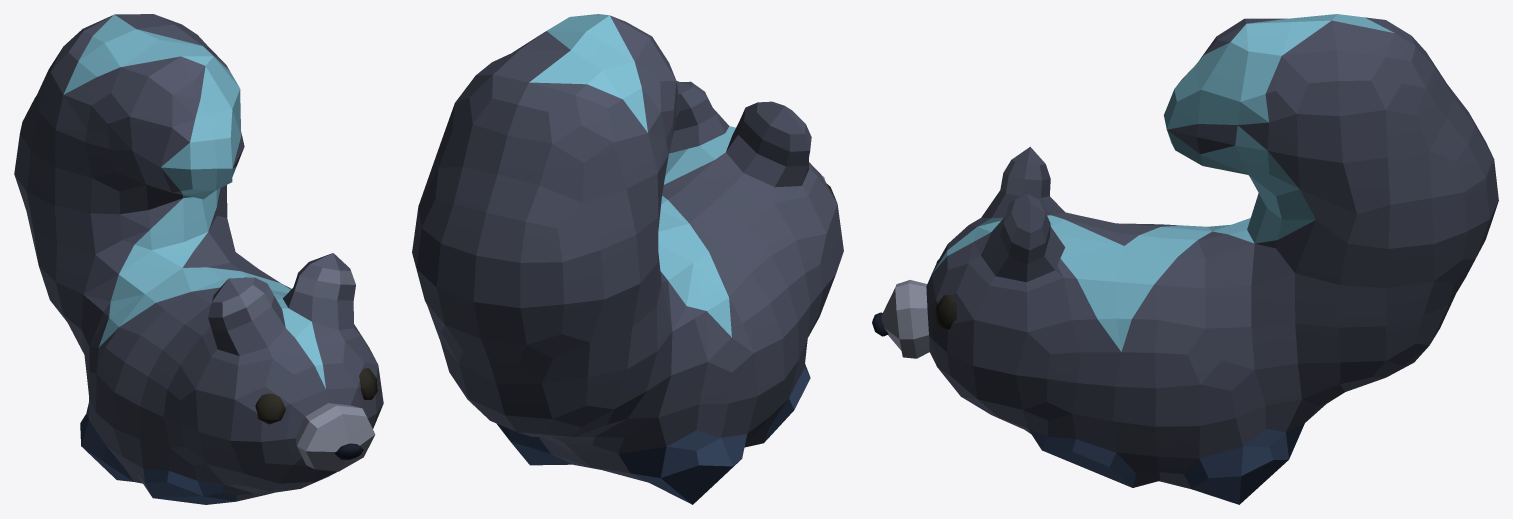
File: Storm_Skunk.glb
3 renders of one model, left to right at view 1: azimuth 30°, elevation 25°; view 2: azimuth 150°, elevation 25°; view 3: azimuth 270°, elevation 25°, orthographic. The views are drawn at different scales.
Parts seen in each view (by area): view 1: Hunt_Storm_Skunk; view 2: Hunt_Storm_Skunk; view 3: Hunt_Storm_Skunk.
Boxes of the visible parts, x1,y1,x2,y2 form: Hunt_Storm_Skunk: [14, 14, 383, 504]; Hunt_Storm_Skunk: [412, 14, 843, 504]; Hunt_Storm_Skunk: [872, 14, 1498, 504].
Bounding box in the file's own units: 0.3162 × 0.5585 × 0.714.
